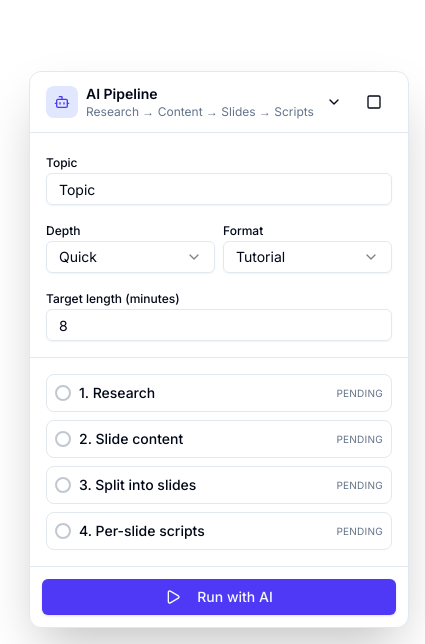
Test case: workflow panel hydration › shows agent streamed step output and completion, then refreshes the project
This screenshot has width=425, height=644.
Click the button "Run with AI": (219, 597) left=42, top=579, right=396, bottom=615
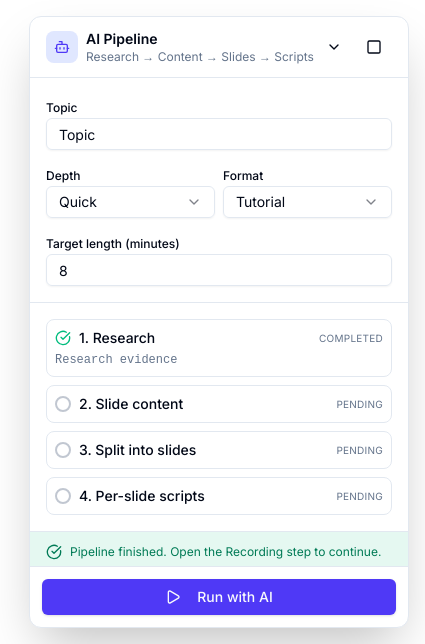
Expected: the text "Pipeline finished. Open the Recording step to continue." is shown, left=30, top=531, right=408, bottom=566
Expected: the element with test id "agent-step-research" shows "Research evidence", left=55, top=353, right=177, bottom=367
Expected: the element with test id "agent-step-research" shows "completed", left=319, top=332, right=383, bottom=344
